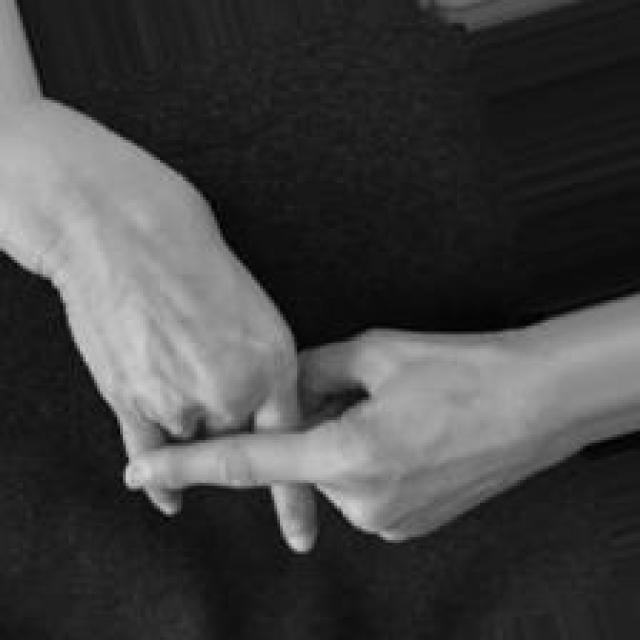H: (65, 230, 572, 563)
